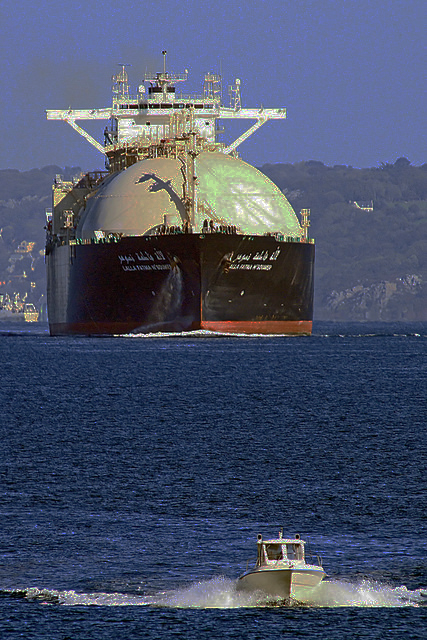LNG_ship: (38, 54, 318, 333)
boat: (235, 533, 328, 604)
